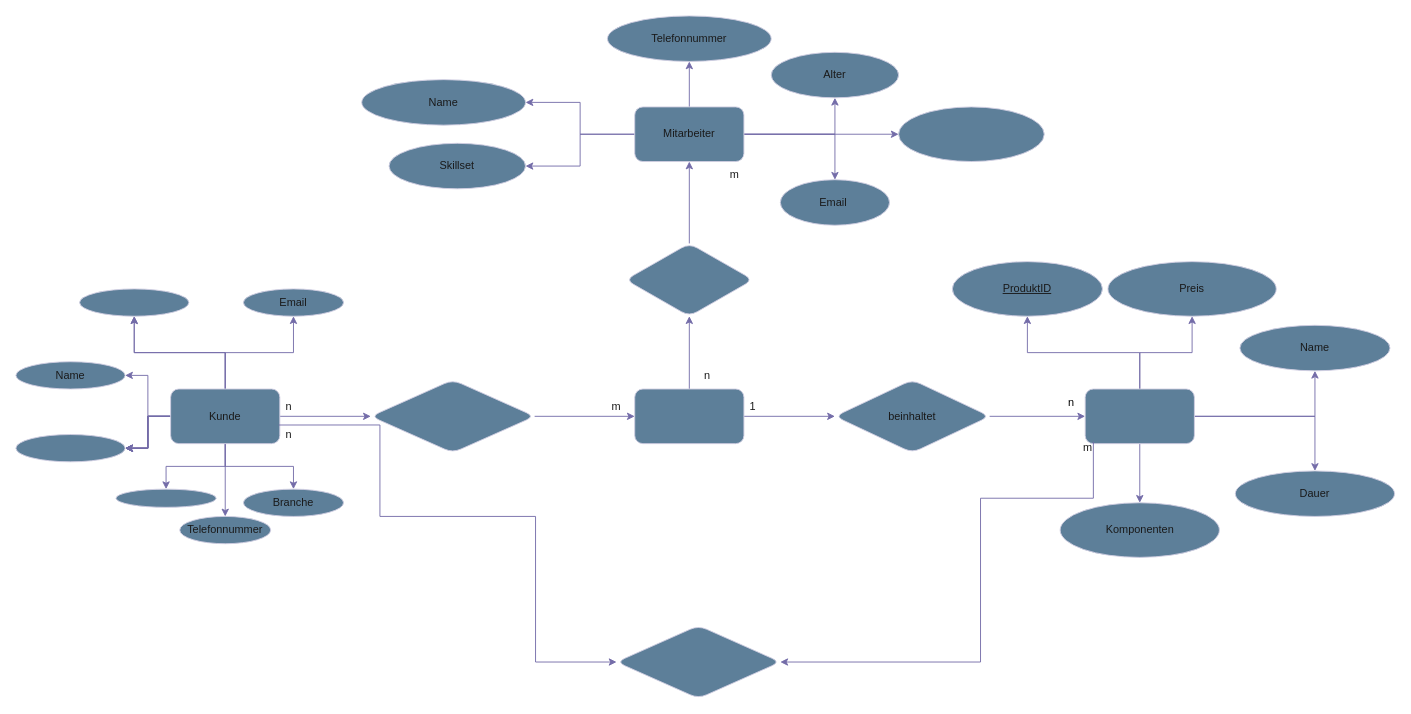
Image size: 1411x714. Some labels were removed from this diagram. Here are the shapes that lost their labels. From the top down, the centre of each, then its label:
At [971,134]: "Mitarbeiter ID".
At [689,279]: "wird zugeteilt zu".
At [134,302]: "KundenID".
At [452,416]: "bestellt".
At [689,416]: "Dienstleistung".
At [1139,416]: "Produkt".
At [70,448]: "Ansprechpartner".
At [165,497]: "Adresse".
At [698,661]: "bezahlt".
